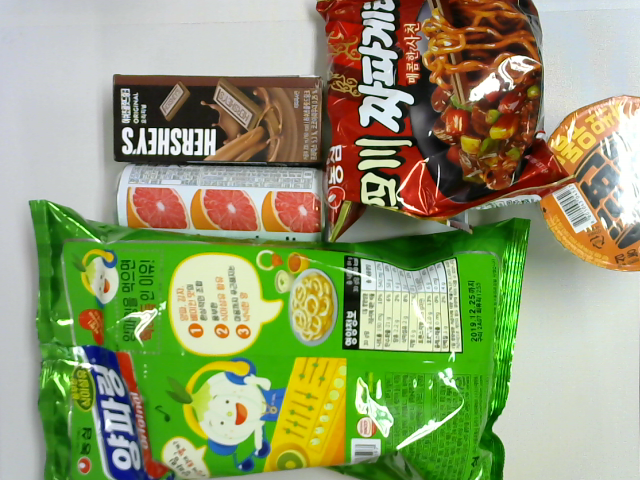Demisoda_Grapefruit_Can_250ml: (106, 158, 329, 243)
Hush_Choco_Drink: (111, 69, 326, 167)
Oninon_Ring: (24, 193, 530, 480)
Sichuan_Chapaghetti: (316, 1, 575, 245)
Udongmini: (542, 92, 640, 277)
